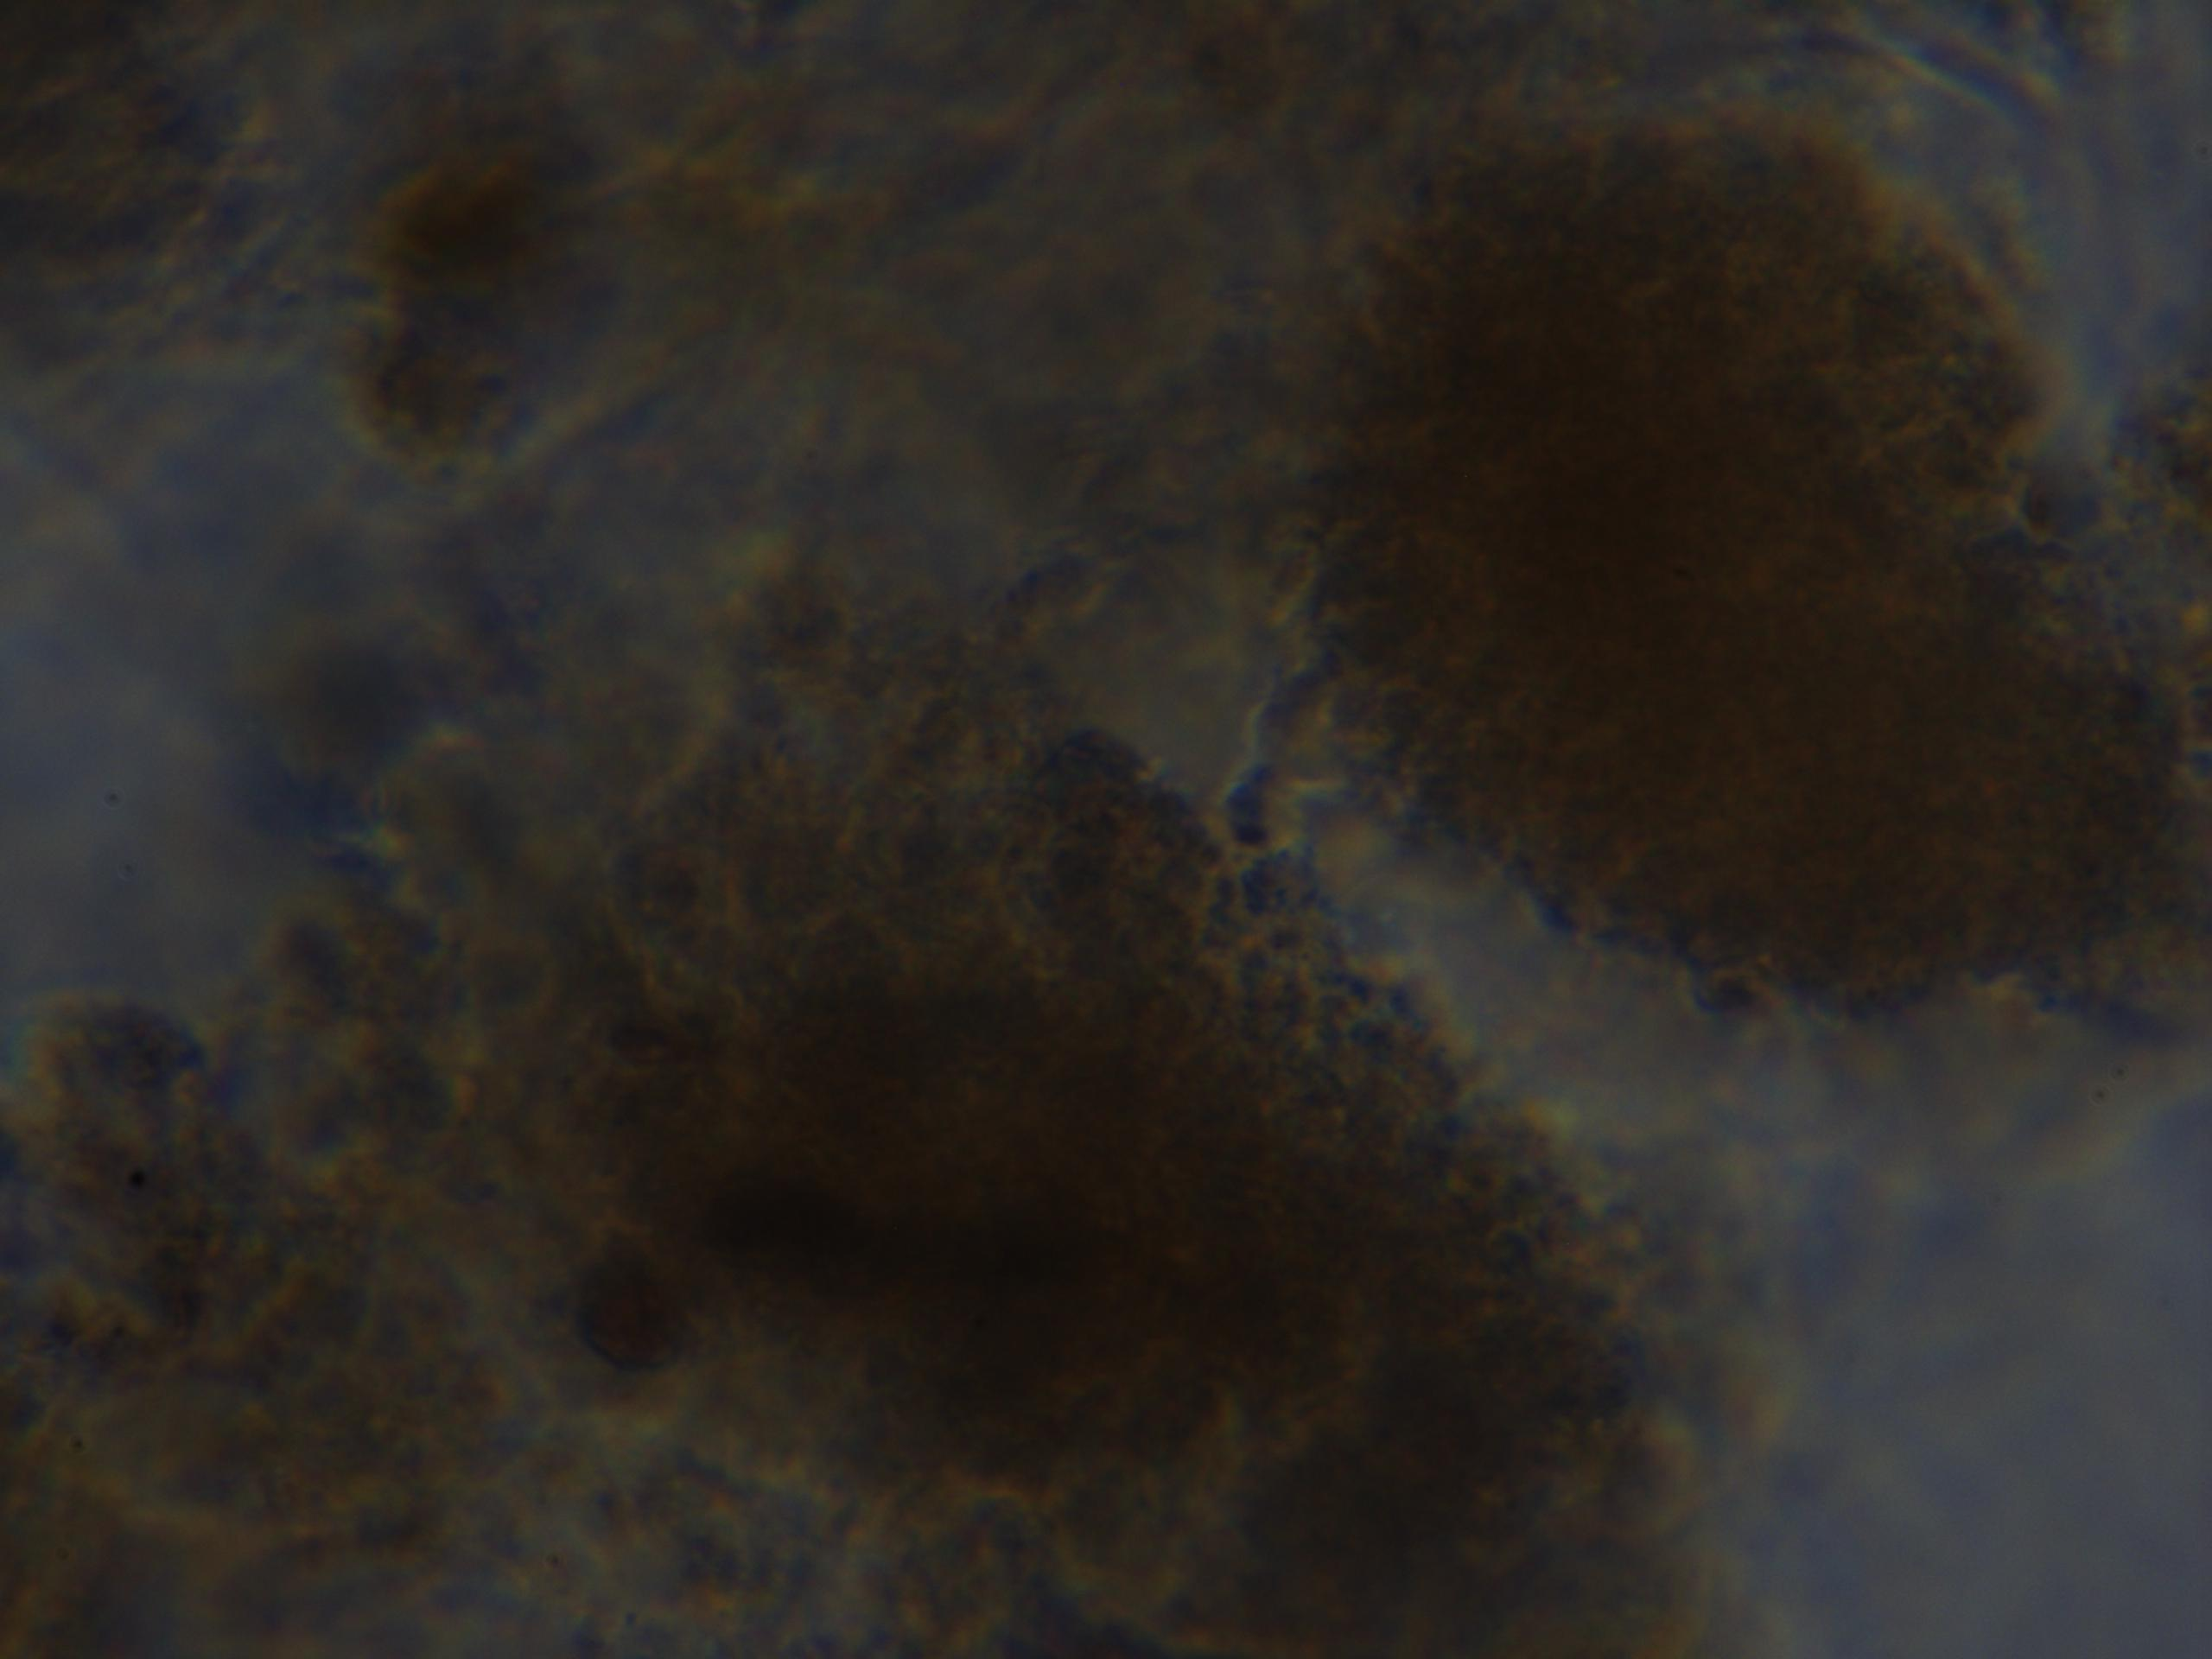spherical_floc: (523, 708, 1641, 1643), (1313, 106, 2212, 1039)
